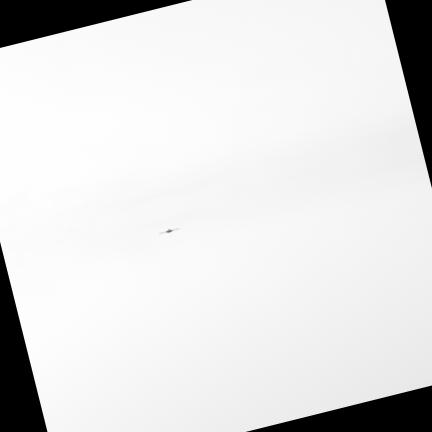Shahed: (158, 227, 179, 233)
